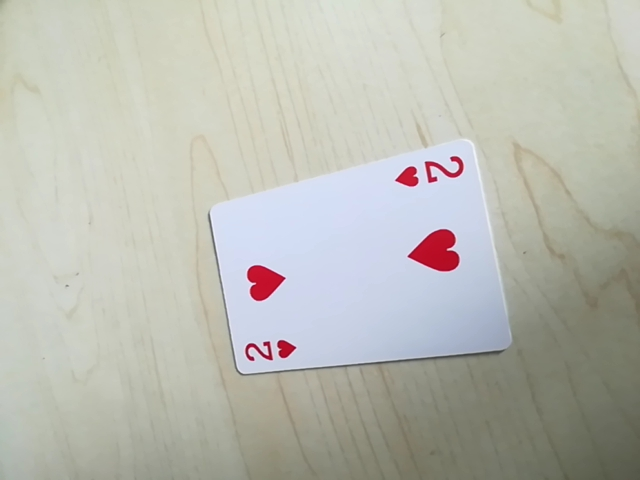hx 2: (391, 150, 472, 196), (238, 335, 302, 371)
